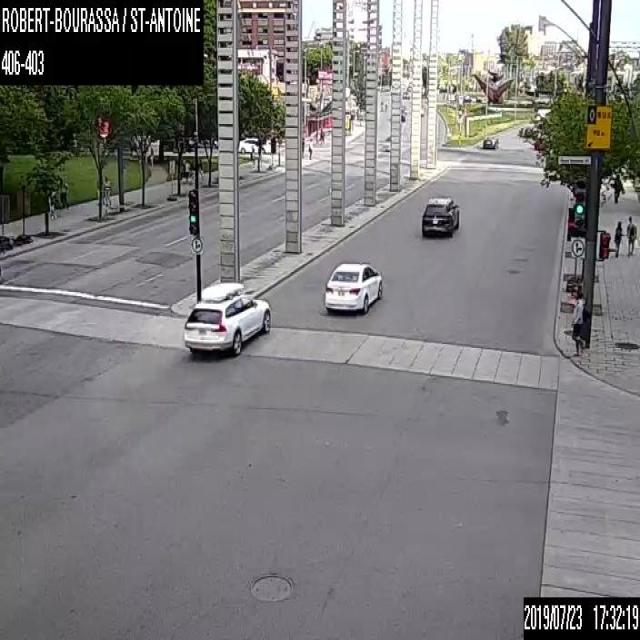construction: (566, 206, 582, 292), (15, 183, 32, 242), (0, 192, 10, 248)
pedestrian: (569, 295, 586, 356), (624, 214, 636, 257), (612, 219, 624, 257), (48, 188, 58, 220), (609, 173, 620, 202), (59, 177, 69, 208), (101, 175, 110, 205), (318, 127, 325, 149), (249, 147, 256, 168), (184, 159, 190, 183), (307, 144, 313, 160)
vehicle: (181, 286, 269, 354), (322, 260, 384, 312), (420, 194, 460, 234), (235, 135, 270, 153), (482, 135, 500, 149)
